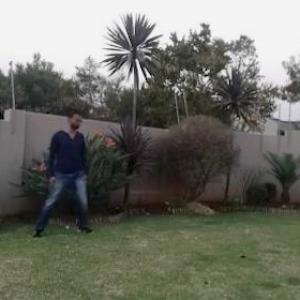follow: (48, 101, 88, 240)
